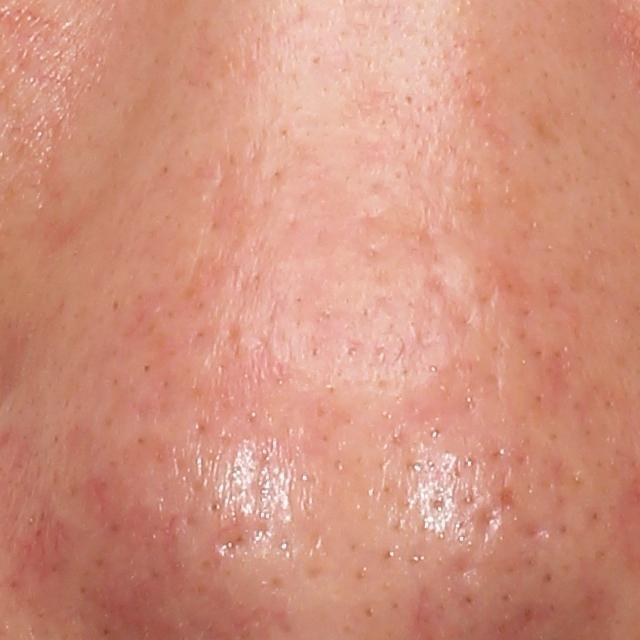atrophic_scar: (210, 517, 279, 561), (469, 505, 500, 543)
